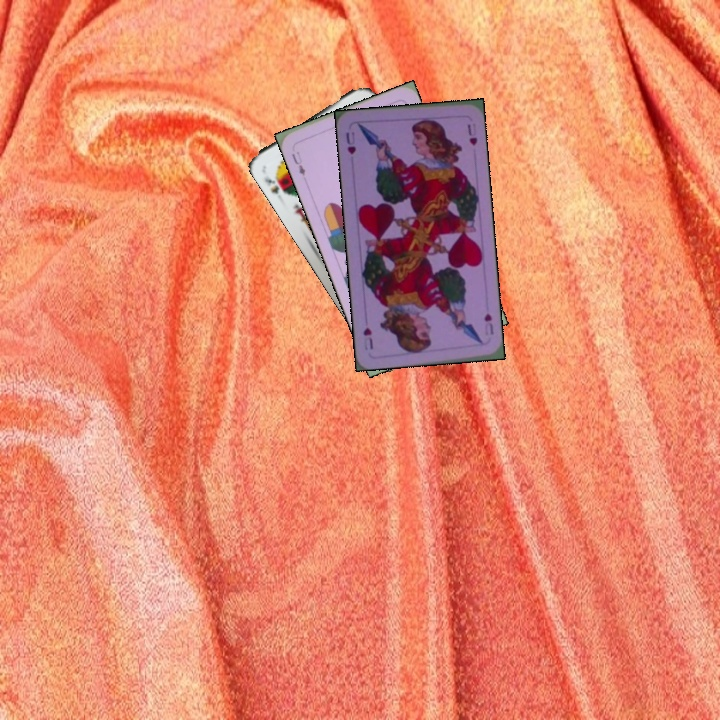EU: (287, 147, 308, 179)
HU: (342, 128, 358, 157), (480, 308, 496, 337)
SK: (260, 169, 290, 197)
